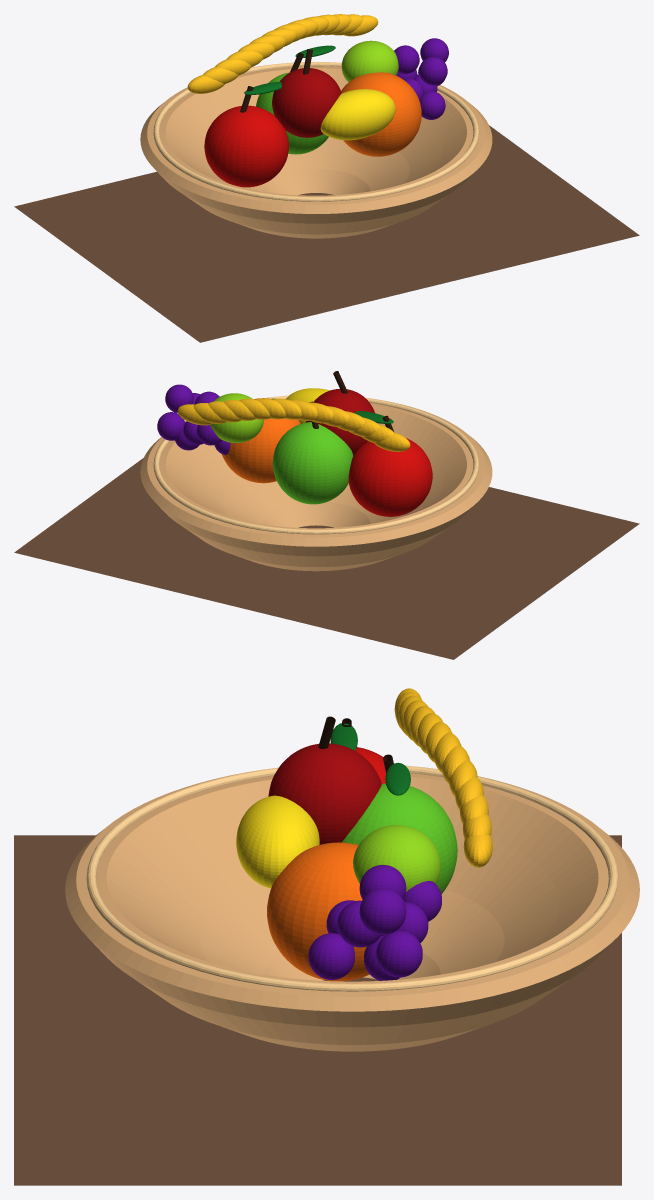
3 views of the same model, one above another, from view 1: azimuth 30°, elevation 25°; view 2: azimuth 150°, elevation 25°; view 3: azimuth 270°, elevation 25° (orthographic). The views are drawn at different scales.
Visible parts, largest first — view 1: group_1_mat_table, group_2_mat_bowl_ceramic, group_5_mat_red_apple, group_12_mat_banana, group_9_mat_deep_red_apple, group_7_mat_orange, group_3_mat_bowl_highlight, group_8_mat_yellow_lemon, group_11_mat_grapes, group_10_mat_lime, group_6_mat_green_apple; view 2: group_1_mat_table, group_2_mat_bowl_ceramic, group_6_mat_green_apple, group_5_mat_red_apple, group_12_mat_banana, group_3_mat_bowl_highlight, group_7_mat_orange, group_11_mat_grapes, group_9_mat_deep_red_apple, group_10_mat_lime, group_8_mat_yellow_lemon; view 3: group_1_mat_table, group_2_mat_bowl_ceramic, group_11_mat_grapes, group_3_mat_bowl_highlight, group_7_mat_orange, group_9_mat_deep_red_apple, group_12_mat_banana, group_8_mat_yellow_lemon, group_6_mat_green_apple, group_10_mat_lime.
Part boxes in pixels (x1=…): group_1_mat_table: x1=14, y1=125, x2=639, y2=342; group_2_mat_bowl_ceramic: x1=140, y1=65, x2=492, y2=238; group_5_mat_red_apple: x1=204, y1=105, x2=288, y2=187; group_12_mat_banana: x1=187, y1=14, x2=378, y2=93; group_9_mat_deep_red_apple: x1=272, y1=68, x2=341, y2=137; group_7_mat_orange: x1=341, y1=72, x2=421, y2=156; group_3_mat_bowl_highlight: x1=153, y1=62, x2=479, y2=201; group_8_mat_yellow_lemon: x1=320, y1=89, x2=395, y2=140; group_11_mat_grapes: x1=394, y1=38, x2=448, y2=119; group_10_mat_lime: x1=341, y1=40, x2=398, y2=82; group_6_mat_green_apple: x1=256, y1=72, x2=328, y2=154; group_1_mat_table: x1=14, y1=458, x2=639, y2=659; group_2_mat_bowl_ceramic: x1=140, y1=397, x2=492, y2=571; group_6_mat_green_apple: x1=272, y1=422, x2=353, y2=504; group_5_mat_red_apple: x1=348, y1=438, x2=432, y2=516; group_12_mat_banana: x1=177, y1=398, x2=410, y2=451; group_3_mat_bowl_highlight: x1=153, y1=395, x2=479, y2=534; group_7_mat_orange: x1=222, y1=398, x2=300, y2=483; group_11_mat_grapes: x1=157, y1=384, x2=230, y2=454; group_9_mat_deep_red_apple: x1=306, y1=389, x2=374, y2=455; group_10_mat_lime: x1=210, y1=393, x2=263, y2=442; group_8_mat_yellow_lemon: x1=286, y1=388, x2=329, y2=423; group_1_mat_table: x1=14, y1=835, x2=621, y2=1185; group_2_mat_bowl_ceramic: x1=65, y1=767, x2=639, y2=1051; group_11_mat_grapes: x1=308, y1=865, x2=441, y2=980; group_3_mat_bowl_highlight: x1=86, y1=765, x2=618, y2=991; group_7_mat_orange: x1=267, y1=842, x2=369, y2=981; group_9_mat_deep_red_apple: x1=268, y1=743, x2=381, y2=844; group_12_mat_banana: x1=394, y1=688, x2=492, y2=867; group_8_mat_yellow_lemon: x1=236, y1=795, x2=319, y2=888; group_6_mat_green_apple: x1=341, y1=783, x2=457, y2=894; group_10_mat_lime: x1=353, y1=825, x2=440, y2=891.
Size of the model in its own units: 6 by 2.25 by 4.53.
